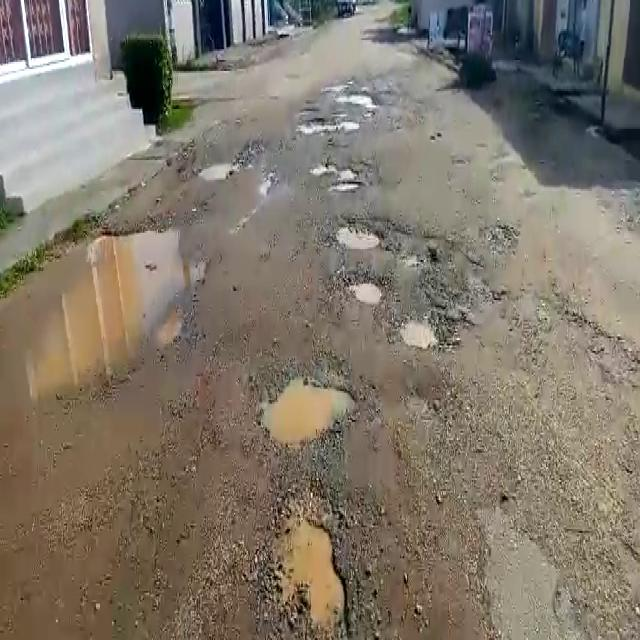Pothole: (0, 224, 191, 409), (262, 492, 359, 634), (259, 364, 362, 446), (393, 312, 453, 348), (332, 215, 389, 252), (311, 161, 364, 195), (338, 270, 388, 303), (301, 117, 359, 138), (336, 86, 377, 110), (196, 161, 240, 183)
